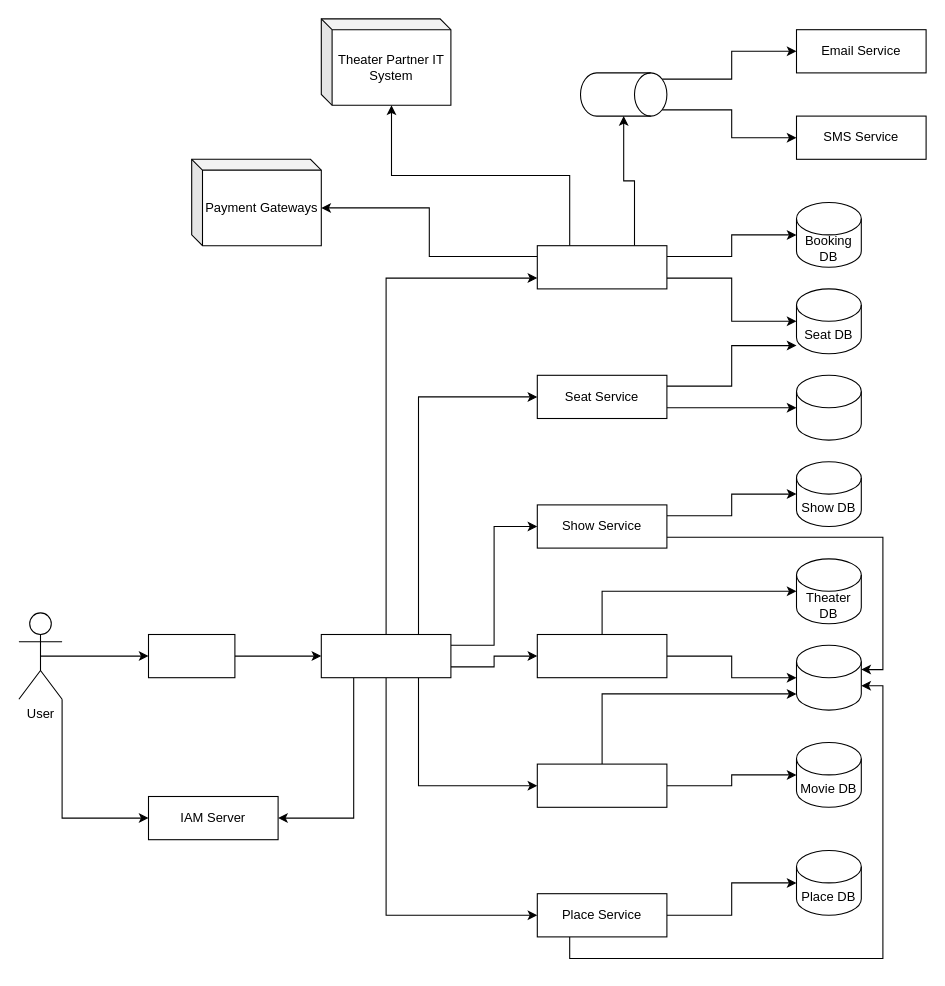
This 945x986 diagram has some shape labels left out. The centre of each missing label's shape, as x and y in pixels:
"API Gateway" belongs at pixel 385 655.
"Availability Cache" belongs at pixel 828 407.
"Booking Service" belongs at pixel 601 267.
"Cache" belongs at pixel 828 677.
"Movie Service" belongs at pixel 601 785.
"MQ" belongs at pixel 623 94.
"Nginx" belongs at pixel 191 655.
"Theater Service" belongs at pixel 601 655.
